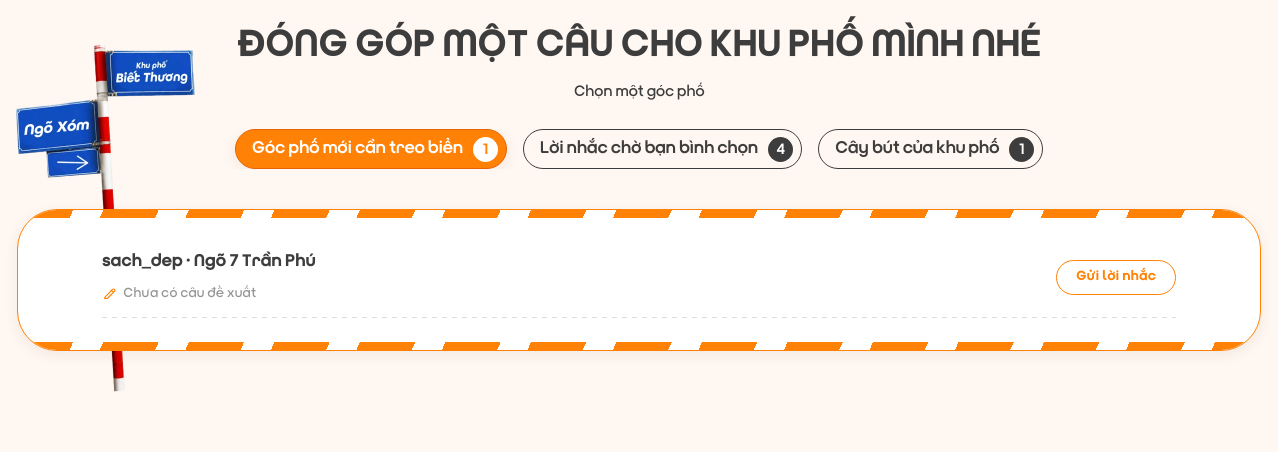
Test: IssueBoard · B4 — kẻ ngăn dòng và biên › biên: cây bút chưa có câu / chưa có lượt thương vẫn render
Click the text "Cây bút của khu phố" at (917, 149), box [835, 135, 999, 163]
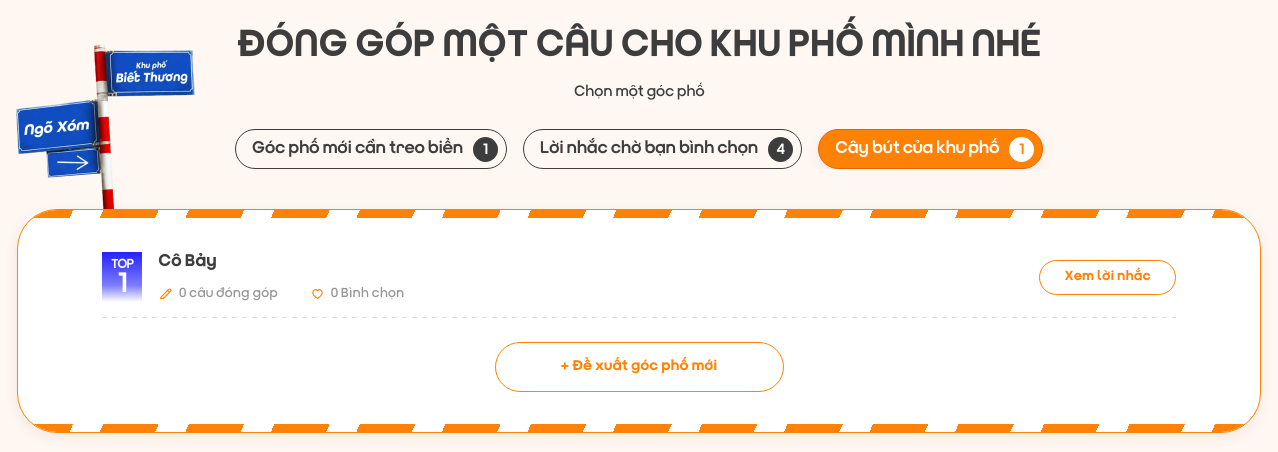
Expected: the text "0 câu đóng góp" is shown, [158, 282, 278, 304]
Expected: the text "0 Bình chọn" is shown, [310, 282, 404, 304]
